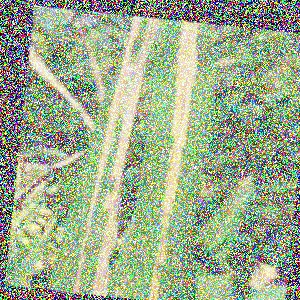Leaf_Blast: (69, 16, 145, 300), (138, 22, 209, 300)
